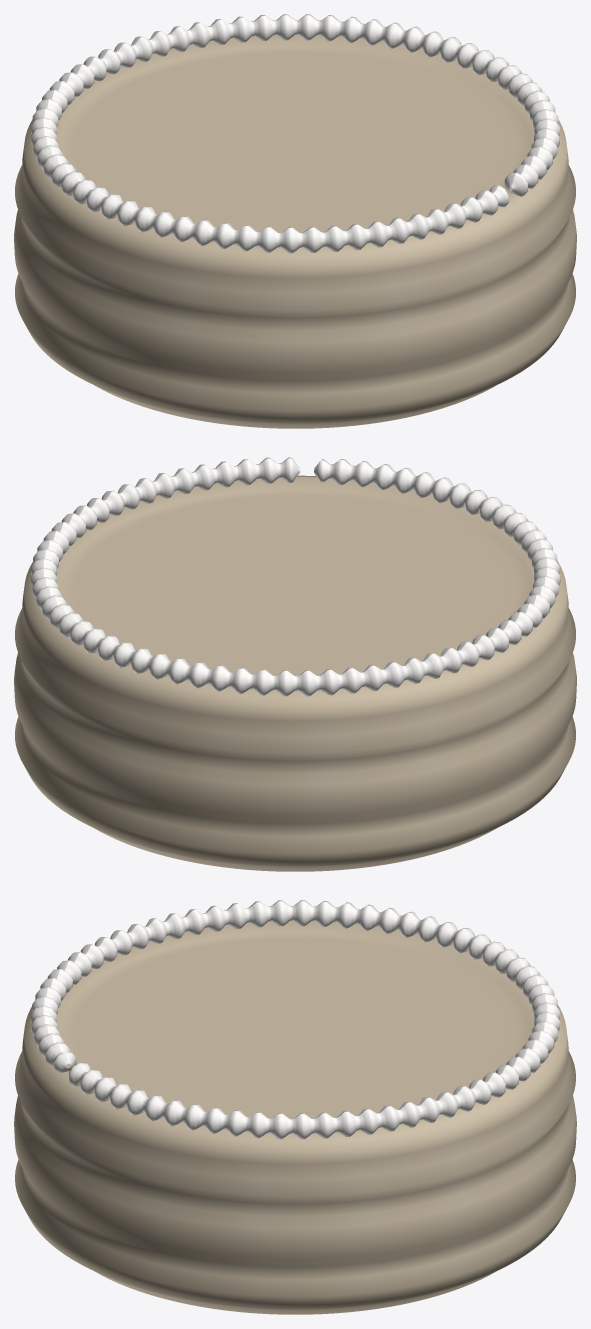
File: cake.glb
The picture shows the model from 3 angles, top to bottom: view 1: azimuth 30°, elevation 25°; view 2: azimuth 150°, elevation 25°; view 3: azimuth 270°, elevation 25°; orthographic projection.
Size of the model in its own units: 0.2558 by 0.1022 by 0.2558.
